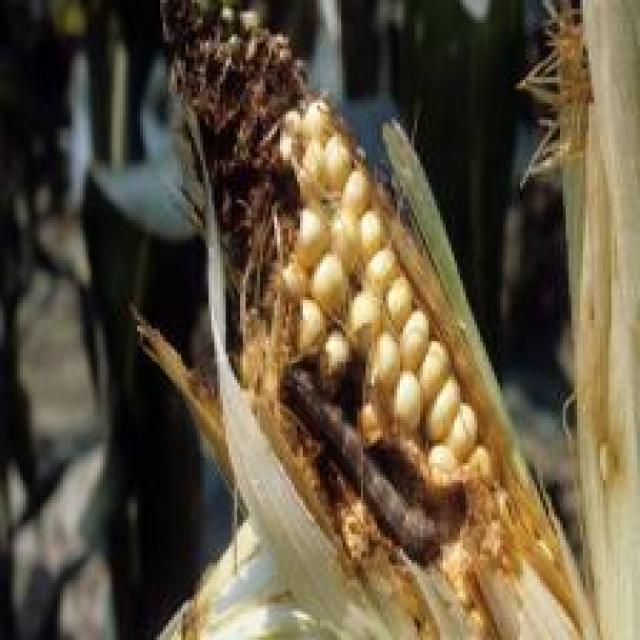Plaga: (278, 361, 438, 564)
